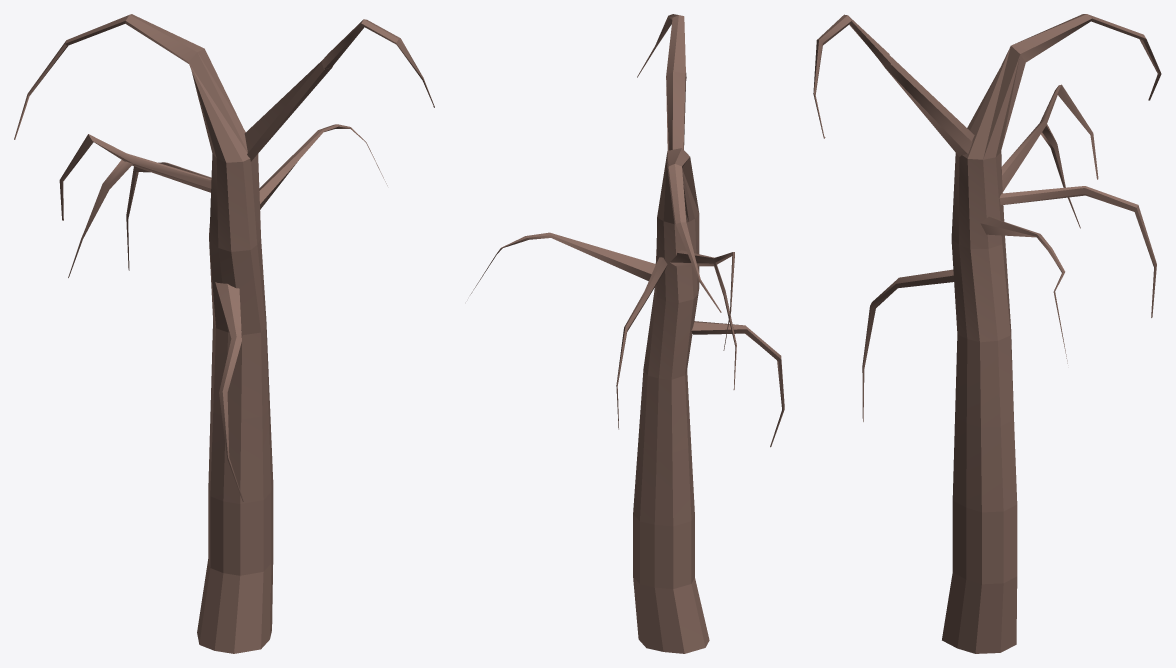
The model's file is tree-orig-flat.glb.
3 views of the same model, side by side, from view 1: azimuth 30°, elevation 25°; view 2: azimuth 150°, elevation 25°; view 3: azimuth 270°, elevation 25° (orthographic). The views are drawn at different scales.
Parts seen in each view (by area): view 1: tree; view 2: tree; view 3: tree.
Part boxes in pixels (box(x1,y1,x2,y2)): tree: box(14, 14, 434, 653); tree: box(470, 14, 784, 653); tree: box(813, 14, 1161, 653).
Size of what is drawn, in the model's own units: 6.28 by 11.64 by 5.63.
1 material, 1 textured.
